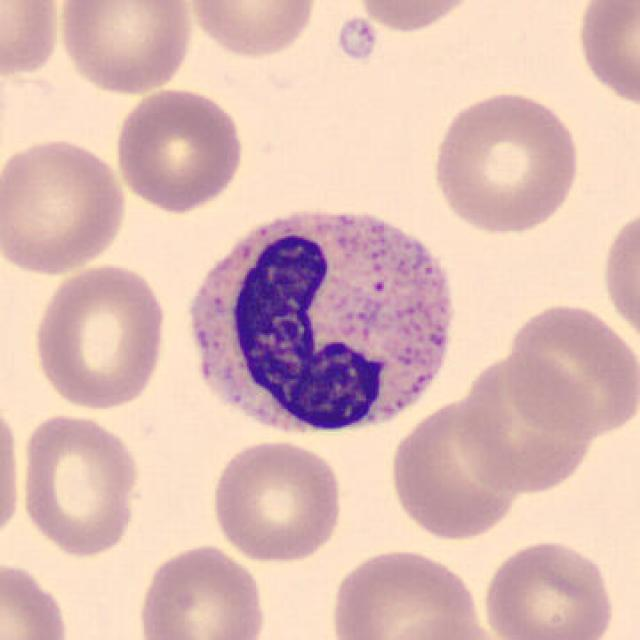Neutrophil: (174, 192, 466, 450)
Platelets: (334, 12, 379, 62)
RBC: (427, 85, 583, 238), (28, 259, 170, 413), (391, 400, 528, 542), (458, 352, 600, 488), (16, 409, 144, 559), (502, 298, 636, 439), (0, 134, 130, 279), (110, 85, 249, 215), (206, 437, 347, 564), (327, 543, 487, 640), (478, 536, 620, 640), (133, 539, 270, 640), (55, 0, 197, 97), (185, 0, 320, 62), (572, 0, 638, 111), (598, 201, 638, 353), (0, 557, 71, 640), (0, 0, 64, 83), (348, 0, 483, 35), (0, 393, 27, 548), (378, 613, 510, 640)
